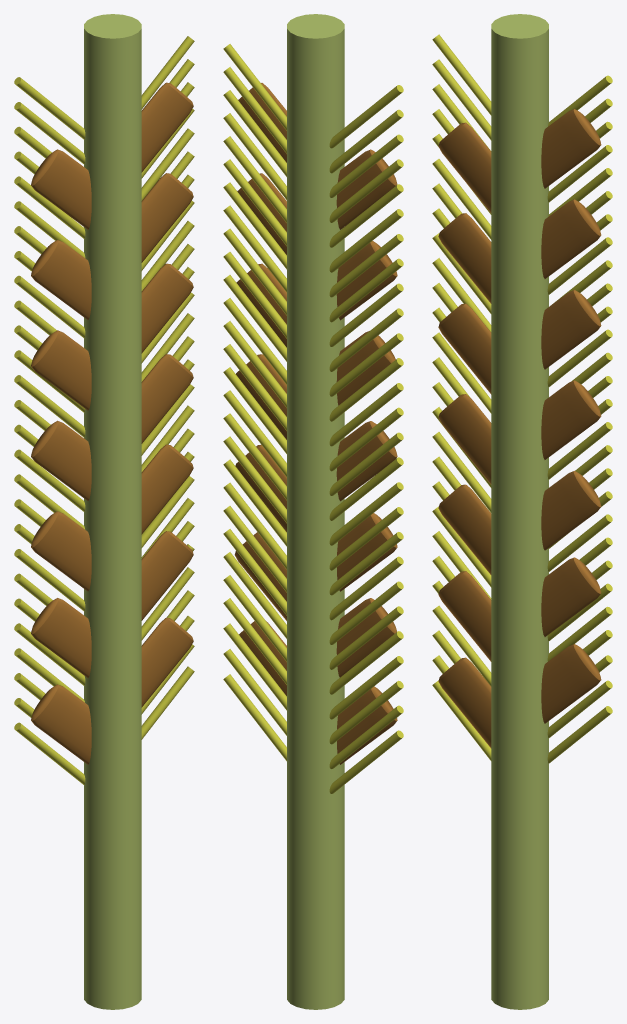
The model's file is kłosek.fbx.
3 views of the same model, side by side, from view 1: azimuth 30°, elevation 25°; view 2: azimuth 150°, elevation 25°; view 3: azimuth 330°, elevation 25° (orthographic).
Visible parts, largest first — view 1: Cylinder001, Cylinder011, Cylinder013, Cylinder009, Cylinder015, Cylinder012, Cylinder014, Cylinder010, Cylinder002, Cylinder006, Cylinder007, Cylinder008 (+27 smaller); view 2: Cylinder001, Cylinder012, Cylinder009, Cylinder014, Cylinder010, Cylinder013, Cylinder015, Cylinder011, Cylinder006, Cylinder005, Cylinder007, Cylinder004 (+58 smaller); view 3: Cylinder001, Cylinder003, Cylinder005, Cylinder007, Cylinder004, Cylinder006, Cylinder002, Cylinder008, Cylinder011, Cylinder014, Cylinder009, Cylinder010 (+27 smaller).
Part boxes in pixels (x1=…): Cylinder001: x1=84, y1=14, x2=141, y2=1009; Cylinder011: x1=31, y1=330, x2=91, y2=410; Cylinder013: x1=31, y1=511, x2=91, y2=591; Cylinder009: x1=31, y1=149, x2=91, y2=229; Cylinder015: x1=31, y1=684, x2=91, y2=764; Cylinder012: x1=31, y1=420, x2=91, y2=500; Cylinder014: x1=31, y1=598, x2=91, y2=677; Cylinder010: x1=31, y1=240, x2=91, y2=319; Cylinder002: x1=141, y1=82, x2=193, y2=172; Cylinder006: x1=141, y1=444, x2=193, y2=534; Cylinder007: x1=141, y1=531, x2=193, y2=620; Cylinder008: x1=141, y1=617, x2=193, y2=707; Cylinder001: x1=287, y1=14, x2=344, y2=1009; Cylinder012: x1=336, y1=421, x2=397, y2=501; Cylinder009: x1=336, y1=149, x2=397, y2=229; Cylinder014: x1=336, y1=598, x2=396, y2=677; Cylinder010: x1=336, y1=241, x2=397, y2=320; Cylinder013: x1=337, y1=513, x2=397, y2=591; Cylinder015: x1=337, y1=686, x2=397, y2=764; Cylinder011: x1=336, y1=331, x2=395, y2=405; Cylinder006: x1=235, y1=444, x2=286, y2=531; Cylinder005: x1=236, y1=354, x2=286, y2=439; Cylinder007: x1=234, y1=532, x2=286, y2=620; Cylinder004: x1=236, y1=263, x2=286, y2=347; Cylinder001: x1=491, y1=14, x2=548, y2=1009; Cylinder003: x1=541, y1=199, x2=601, y2=278; Cylinder005: x1=541, y1=380, x2=601, y2=459; Cylinder007: x1=541, y1=557, x2=601, y2=636; Cylinder004: x1=541, y1=290, x2=601, y2=369; Cylinder006: x1=541, y1=471, x2=601, y2=550; Cylinder002: x1=541, y1=109, x2=601, y2=188; Cylinder008: x1=541, y1=644, x2=601, y2=723; Cylinder011: x1=438, y1=303, x2=491, y2=394; Cylinder014: x1=438, y1=571, x2=491, y2=661; Cylinder009: x1=438, y1=122, x2=491, y2=213; Cylinder010: x1=438, y1=213, x2=491, y2=303.
Bounding box in the file's own units: 2.75 × 14.25 × 0.7661.
